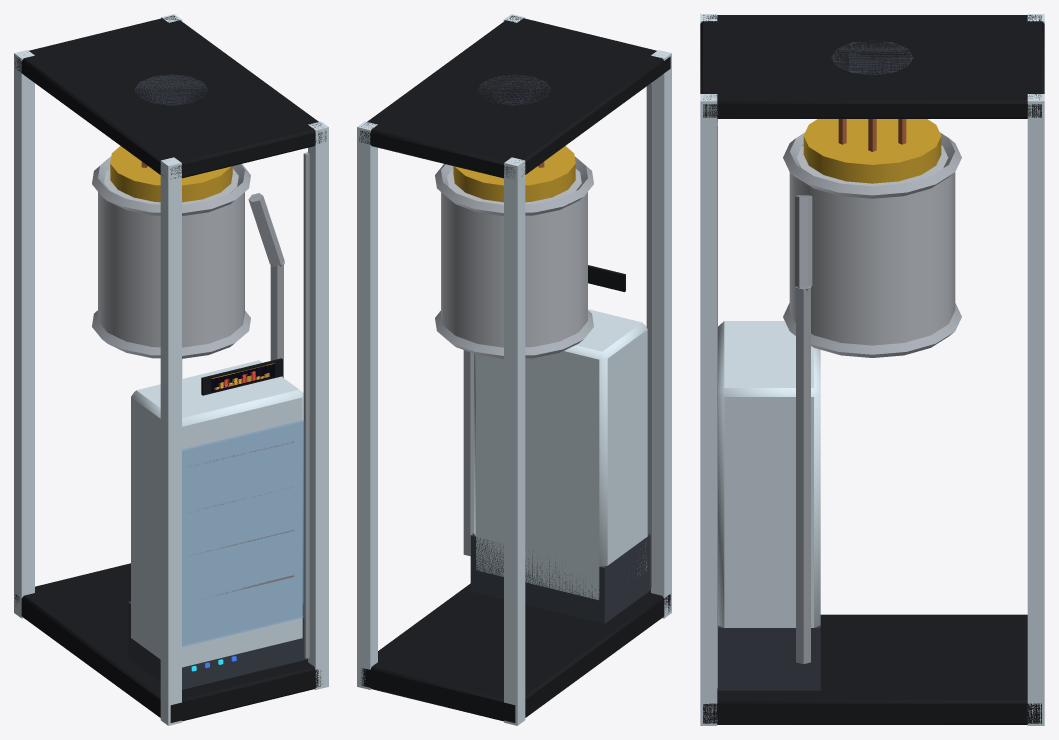
Rendered from rack_cryogenic_quantum_rack.glb.
The picture shows the model from 3 angles, left to right: view 1: azimuth 30°, elevation 25°; view 2: azimuth 150°, elevation 25°; view 3: azimuth 270°, elevation 25°; orthographic projection. The views are drawn at different scales.
Parts seen in each view (by area): view 1: rack_cryogenic_quantum_rack; view 2: rack_cryogenic_quantum_rack; view 3: rack_cryogenic_quantum_rack.
Part boxes in pixels (x1,y1,x2,y2): rack_cryogenic_quantum_rack: (14, 14, 328, 725); rack_cryogenic_quantum_rack: (357, 14, 671, 725); rack_cryogenic_quantum_rack: (700, 14, 1044, 725).
Size of the model in its own units: 0.605 by 2 by 1.
Materials: 11 (1 with a texture image).
